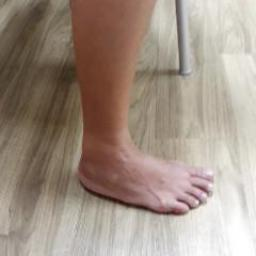Lateral View -Right Foot-: (63, 123, 230, 229)
